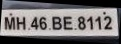character: (4, 16, 15, 30), (51, 15, 61, 29), (62, 16, 72, 30), (77, 15, 86, 30), (15, 16, 25, 29), (29, 16, 38, 30), (103, 15, 112, 29), (94, 15, 102, 29), (86, 15, 93, 30), (38, 16, 46, 29)
